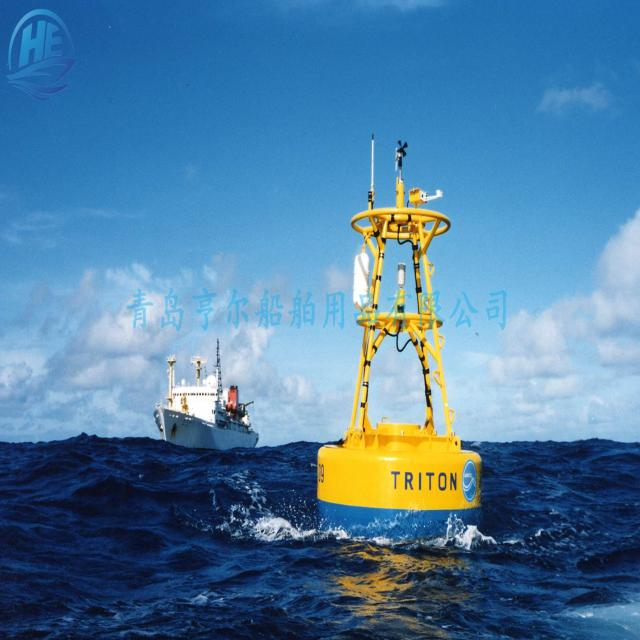buoy: (315, 137, 479, 542)
passenger ship: (157, 337, 258, 448)
